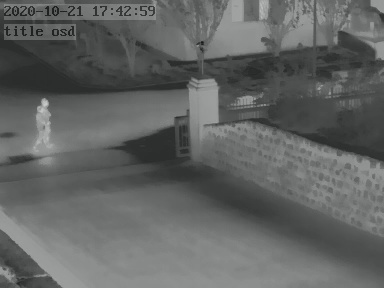person: (33, 96, 55, 155)
